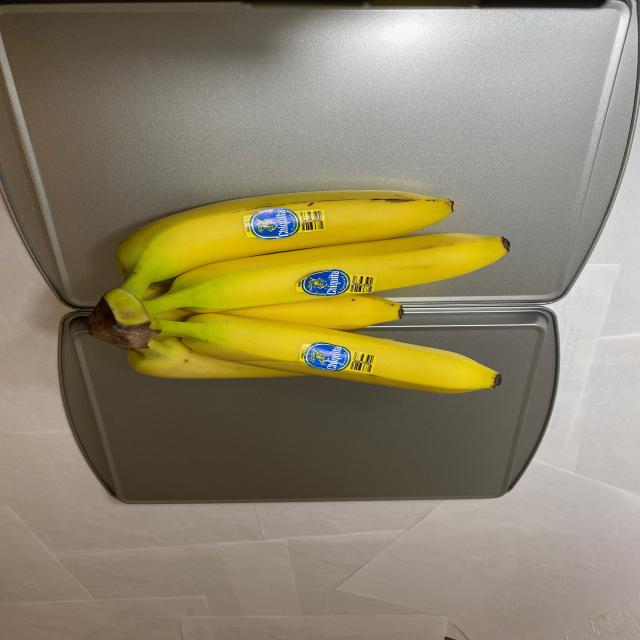banana: (87, 187, 516, 404)
